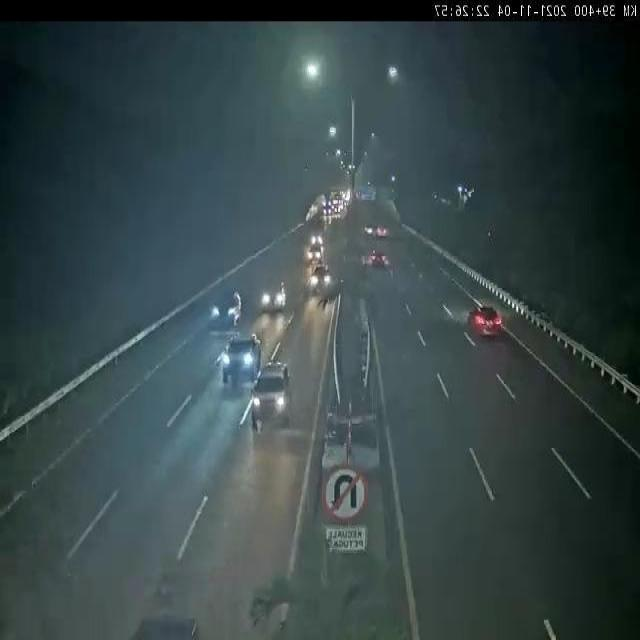Car: (244, 361, 296, 433), (221, 333, 263, 390), (255, 273, 292, 317), (209, 288, 242, 331), (468, 305, 502, 339), (309, 263, 337, 299), (362, 249, 389, 272), (306, 233, 324, 260), (377, 222, 391, 241)
